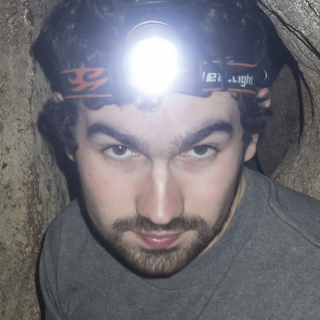eye: (94, 142, 149, 164), (174, 141, 224, 164)
